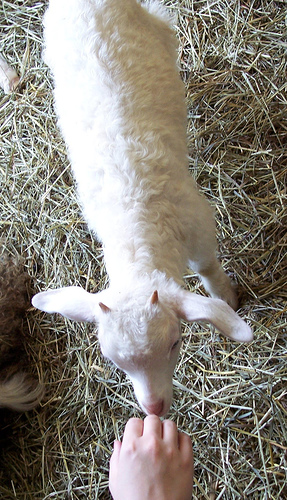goat: (28, 1, 255, 420)
